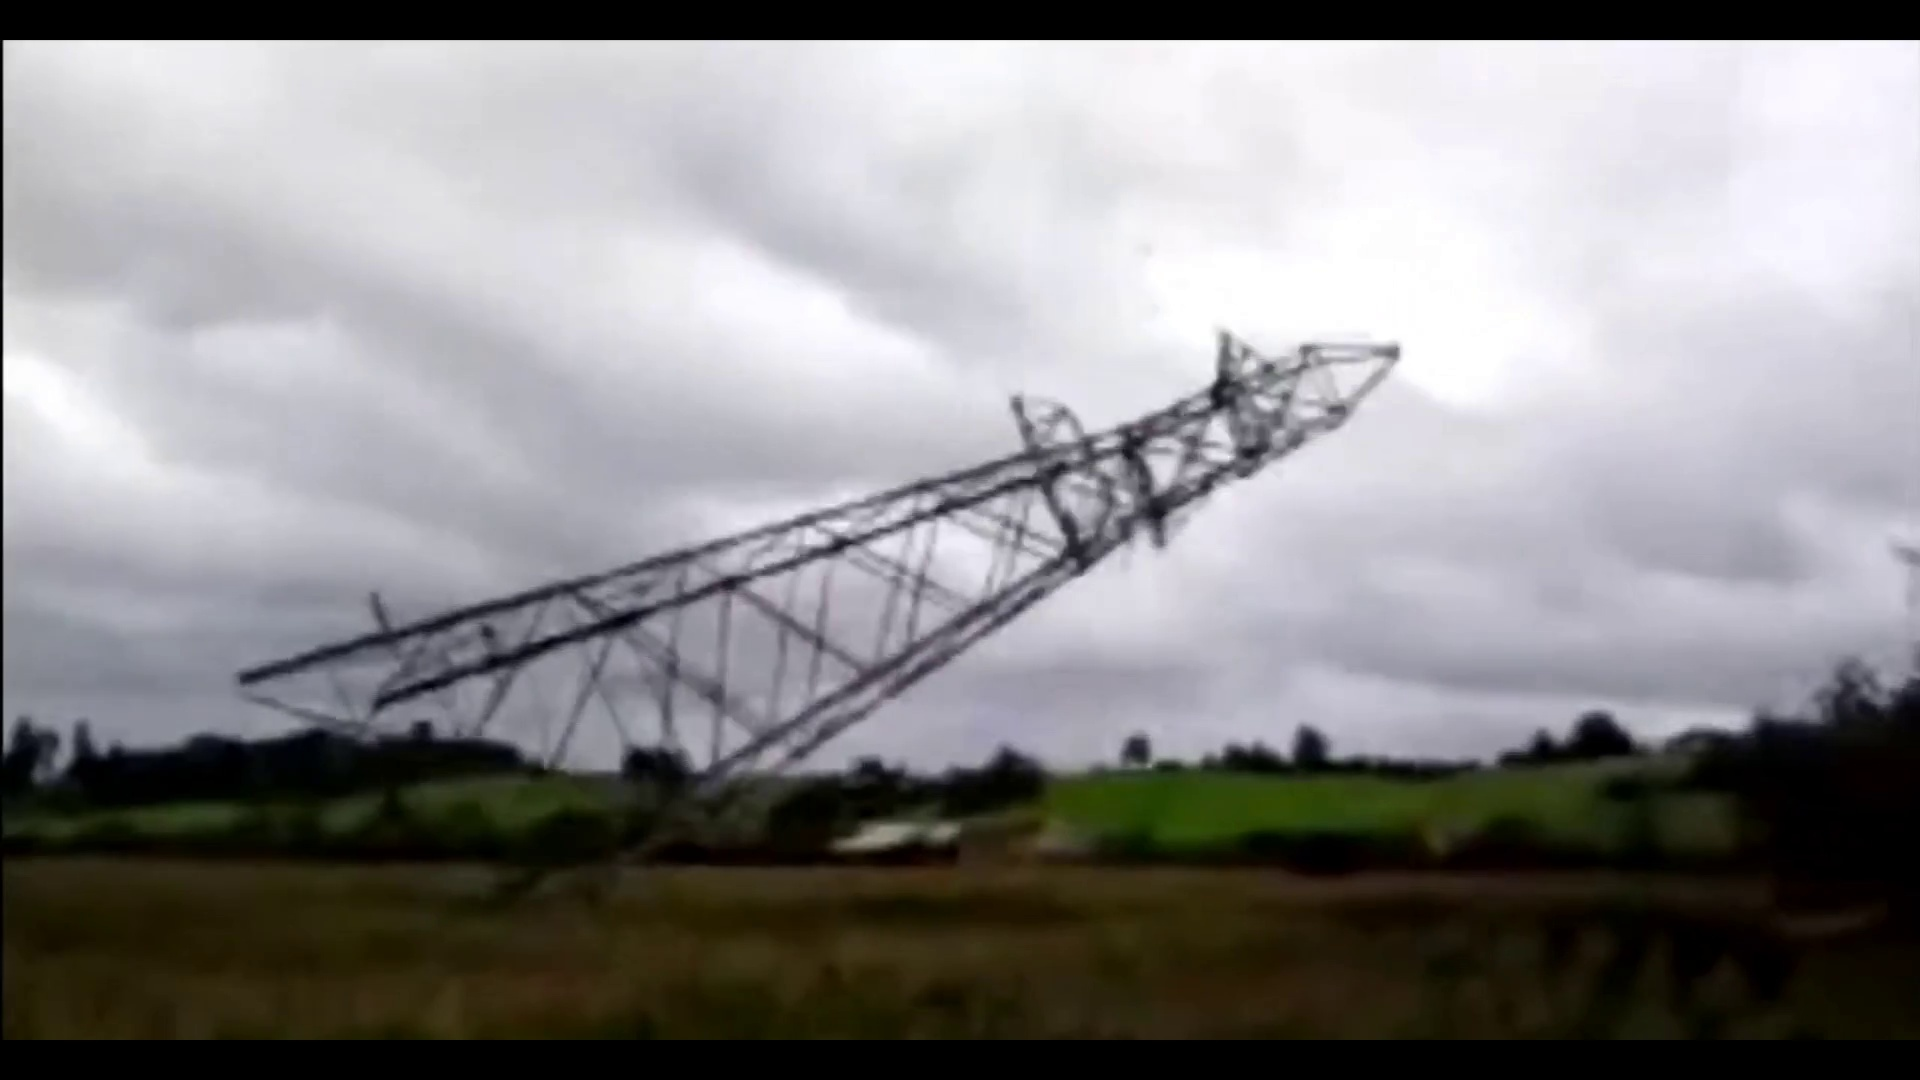tower_down: (240, 301, 1472, 758)
